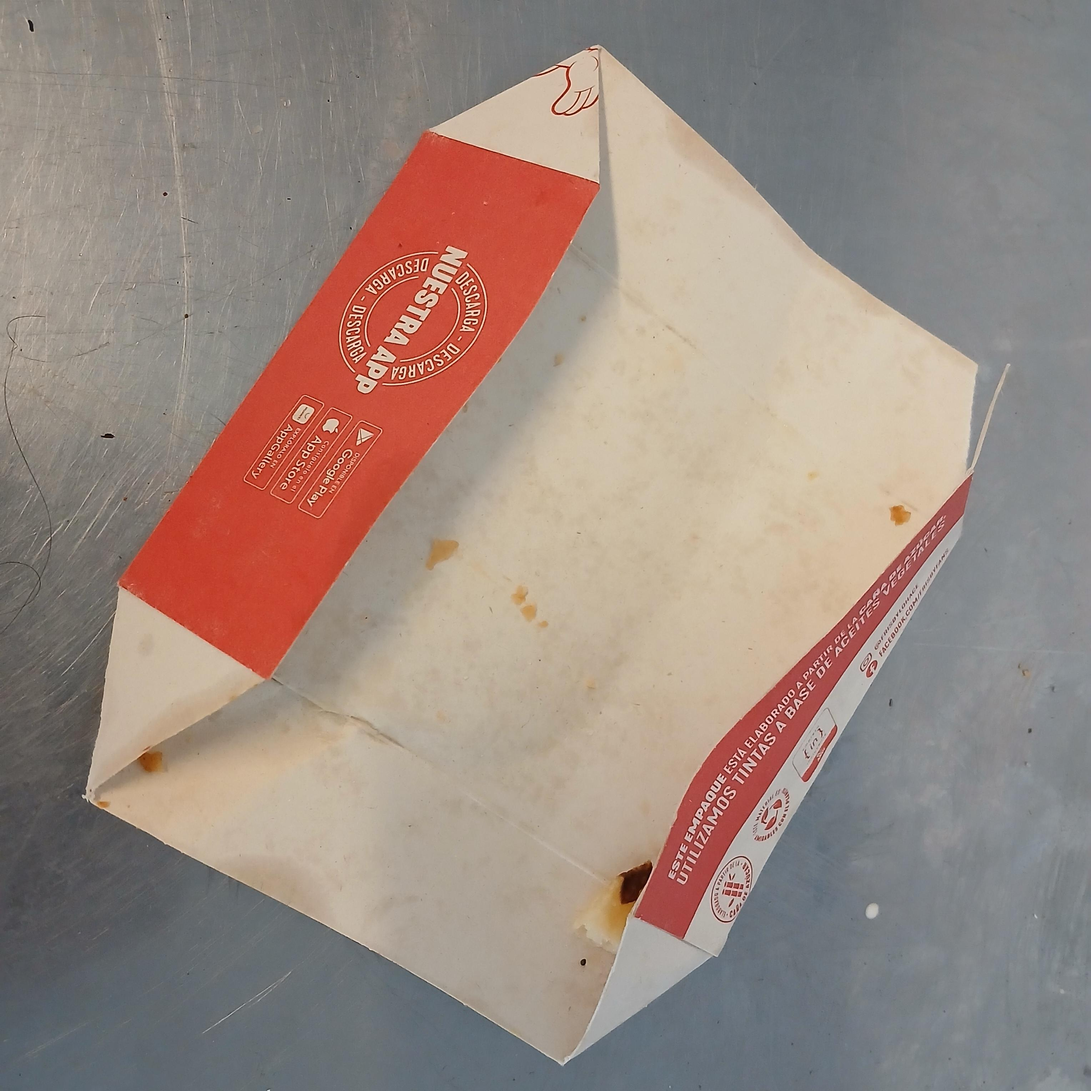Carton: (84, 47, 980, 1065)
